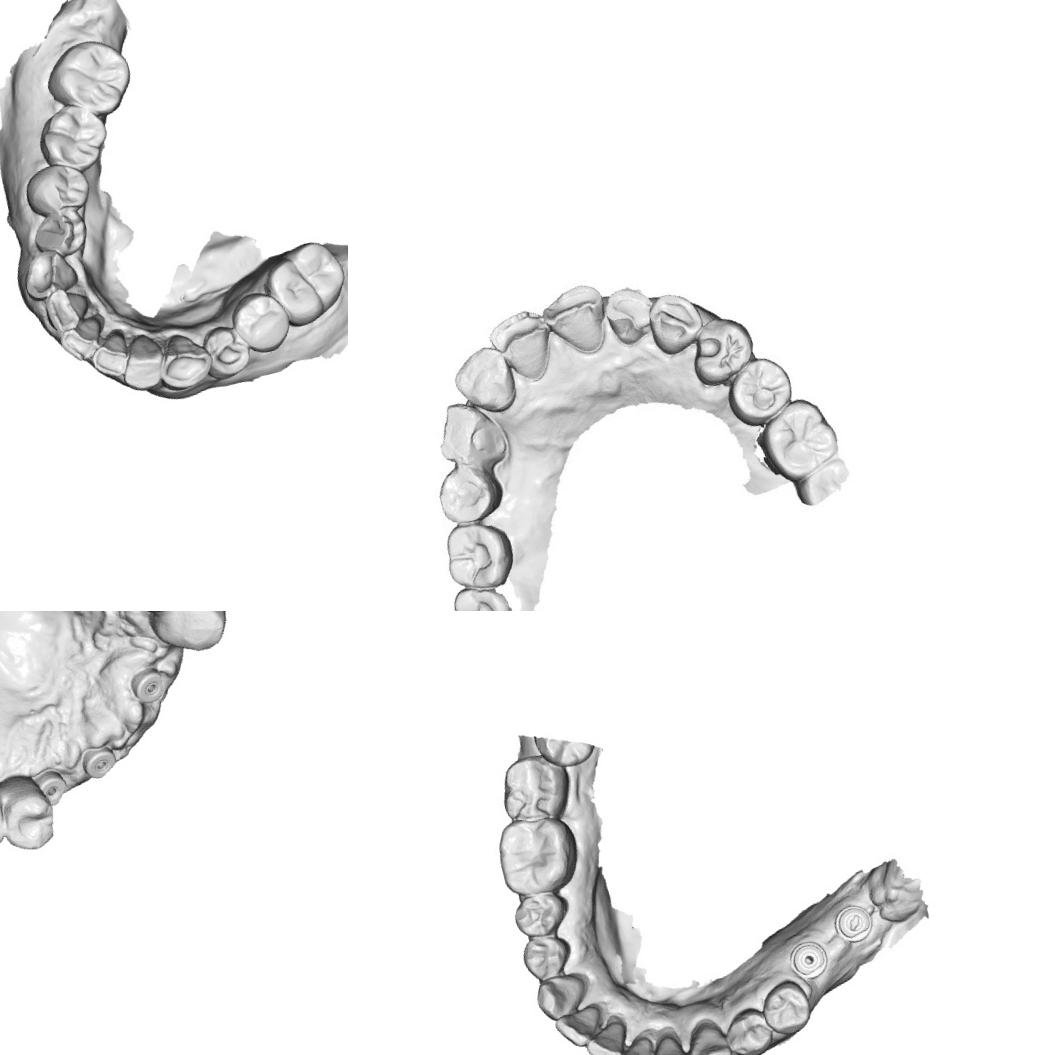canine: (429, 392, 518, 482), (150, 323, 218, 398), (642, 287, 710, 361), (145, 611, 231, 661), (14, 244, 80, 304), (529, 966, 592, 1024), (679, 1013, 736, 1055)
implant: (784, 932, 834, 984), (78, 741, 119, 784), (34, 763, 72, 809), (128, 664, 169, 704)
implant_minus: (828, 898, 878, 948)
incisor: (540, 282, 614, 358), (450, 341, 521, 418), (488, 307, 554, 383), (110, 330, 171, 395), (601, 282, 659, 346), (82, 326, 138, 386), (37, 280, 94, 336), (550, 1000, 609, 1053), (53, 312, 106, 365), (579, 1015, 634, 1055), (641, 1024, 693, 1055), (610, 1032, 662, 1055)
molar: (34, 29, 140, 128), (489, 803, 586, 904), (256, 236, 348, 332), (29, 95, 114, 180), (492, 746, 578, 830), (761, 397, 841, 482), (443, 518, 516, 594), (450, 578, 517, 611)
premolar: (0, 768, 62, 857), (225, 284, 294, 359), (20, 156, 92, 221), (690, 316, 756, 382), (726, 354, 792, 419), (754, 973, 818, 1040), (24, 201, 92, 264), (435, 460, 500, 524), (508, 885, 574, 943), (516, 928, 578, 986), (198, 319, 253, 382), (720, 1002, 776, 1055)
